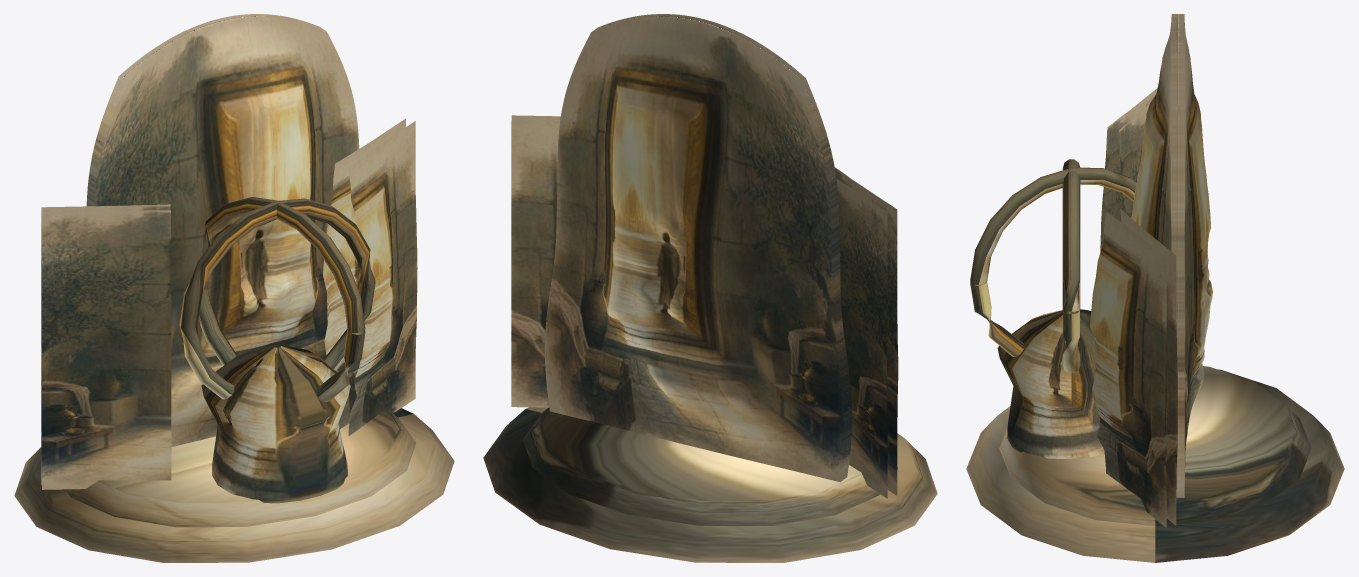
File: anchor-of-the-soul-16.glb
3 renders of one model, left to right at view 1: azimuth 30°, elevation 25°; view 2: azimuth 150°, elevation 25°; view 3: azimuth 270°, elevation 25°, orthographic. The views are drawn at different scales.
Parts seen in each view (by area): view 1: PaintingSculptureMonument; view 2: PaintingSculptureMonument; view 3: PaintingSculptureMonument.
Boxes of the visible parts, x1=… form: PaintingSculptureMonument: x1=14, y1=14, x2=454, y2=562; PaintingSculptureMonument: x1=483, y1=14, x2=937, y2=562; PaintingSculptureMonument: x1=966, y1=14, x2=1344, y2=562.
Size of the model in its own units: 2.76 by 2.99 by 2.35.
1 material, 1 textured.
